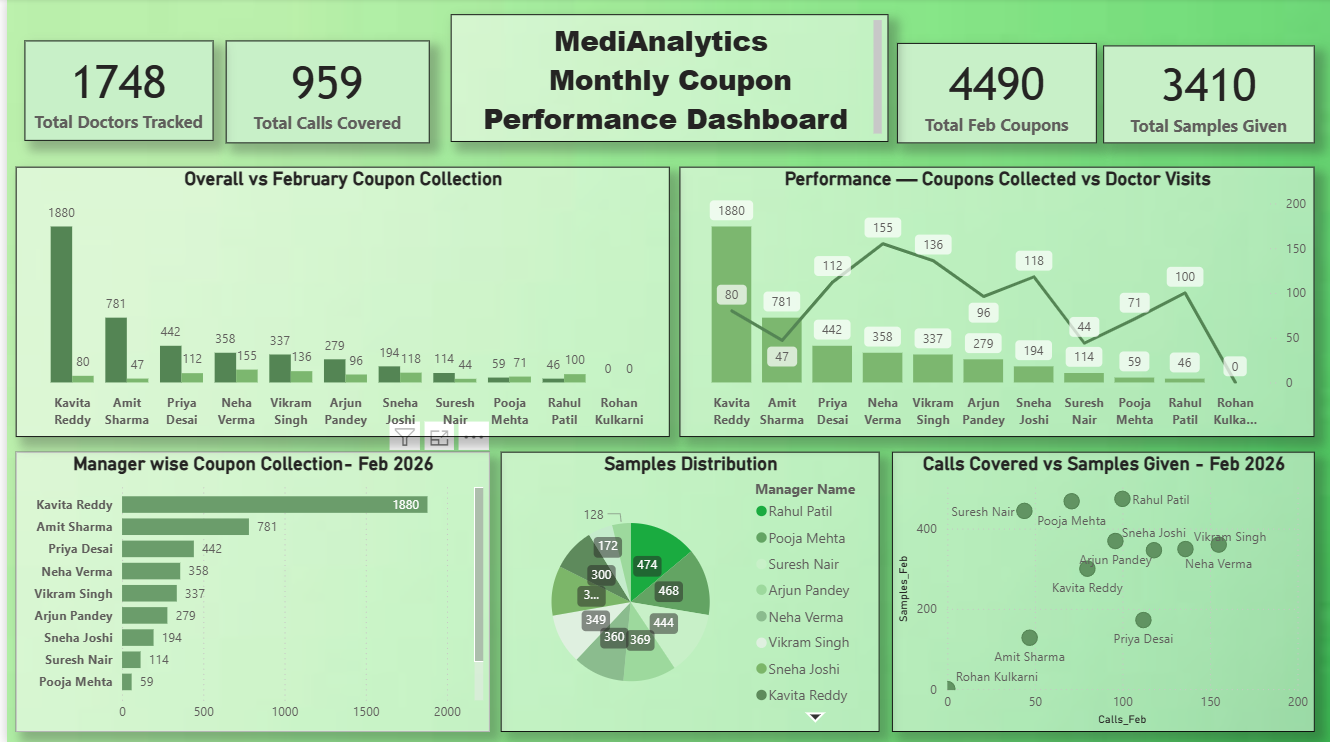

What the dashboard file says about the page in this screenshot:
{"tool":"powerbi","page":{"name":"Page 2","canvas":[1280,720],"ordinal":1},"visuals":[{"type":"card","fields":{"Values":["Sum(Coupon_Collection_Feb2026.Calls_Feb)"]},"box":[211.1,41,196.6,98.9],"z":0},{"type":"card","fields":{"Values":["Sum(Coupon_Collection_Feb2026.Coupon_Feb)"]},"box":[859,43.4,193,96.5],"z":1000},{"type":"card","fields":{"Values":["Sum(Coupon_Collection_Feb2026.Samples_Feb)"]},"box":[1058,45.8,203.9,94.1],"z":2000},{"type":"card","fields":{"Values":["Count(Coupon_Collection_Feb2026.Doctor_ID)"]},"box":[16.9,41,182.2,96.5],"z":3000},{"type":"clusteredBarChart","title":"Manager wise Coupon Collection- Feb 2026","fields":{"Category":["Coupon_Collection_Feb2026.Rep_Name"],"Y":["Sum(Coupon_Collection_Feb2026.Coupon_Feb)"]},"box":[8.4,437.9,457.2,270.2],"z":4000},{"type":"scatterChart","title":"Calls Covered vs Samples Given - Feb 2026","fields":{"Category":["Coupon_Collection_Feb2026.Rep_Name"],"X":["Sum(Coupon_Collection_Feb2026.Calls_Feb)"],"Y":["Sum(Coupon_Collection_Feb2026.Samples_Feb)"]},"box":[854.2,437.9,407.8,270.2],"z":5000},{"type":"clusteredColumnChart","title":"Overall vs February Coupon Collection","fields":{"Category":["Coupon_Collection_Feb2026.Rep_Name"],"Y":["Sum(Coupon_Collection_Feb2026.Coupon_Feb)","Sum(Coupon_Collection_Feb2026.Calls_Feb)"]},"box":[8.4,162.9,631,260.6],"z":6000},{"type":"pieChart","title":"Samples Distribution","fields":{"Category":["Coupon_Collection_Feb2026.Rep_Name"],"Y":["Sum(Coupon_Collection_Feb2026.Samples_Feb)"]},"box":[476.5,437.9,365.6,270.2],"z":7000},{"type":"lineStackedColumnComboChart","title":"Performance — Coupons Collected vs Doctor Visits","fields":{"Category":["Coupon_Collection_Feb2026.Rep_Name"],"Y":["Sum(Coupon_Collection_Feb2026.Coupon_Feb)"],"Y2":["Sum(Coupon_Collection_Feb2026.Calls_Feb)"]},"box":[649.1,162.9,612.9,260.6],"z":7001},{"type":"textbox","box":[428.3,15.7,422.3,123.1],"z":7002}]}

Visuals, with their boxes in screenshot pixels (x1, y1, x2, y2), scaled from the page's 1280x720 canvas onto the 1330x742 screenshot:
card - Sum(Coupon_Collection_Feb2026.Calls_Feb): (219, 42, 424, 144)
card - Sum(Coupon_Collection_Feb2026.Coupon_Feb): (893, 45, 1093, 144)
card - Sum(Coupon_Collection_Feb2026.Samples_Feb): (1099, 47, 1311, 144)
card - Count(Coupon_Collection_Feb2026.Doctor_ID): (18, 42, 207, 142)
"Manager wise Coupon Collection- Feb 2026" clusteredBarChart: (9, 451, 484, 730)
"Calls Covered vs Samples Given - Feb 2026" scatterChart: (888, 451, 1311, 730)
"Overall vs February Coupon Collection" clusteredColumnChart: (9, 168, 664, 436)
"Samples Distribution" pieChart: (495, 451, 875, 730)
"Performance — Coupons Collected vs Doctor Visits" lineStackedColumnComboChart: (674, 168, 1311, 436)
textbox: (445, 16, 884, 143)
